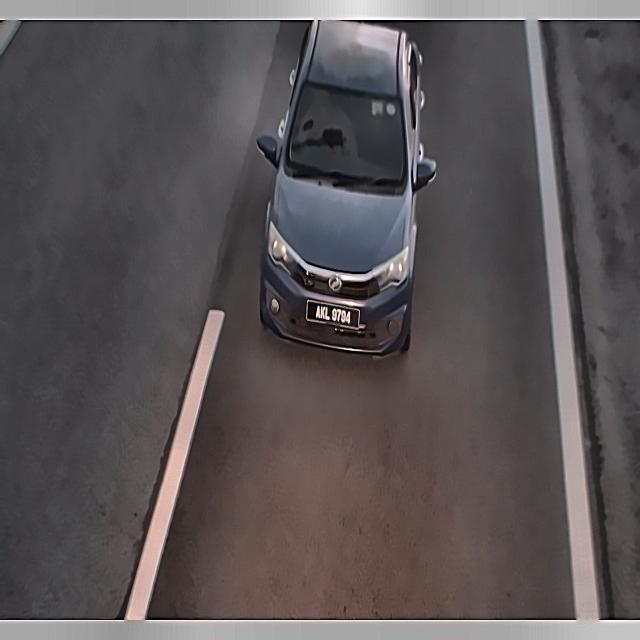car: (301, 291, 361, 332)
